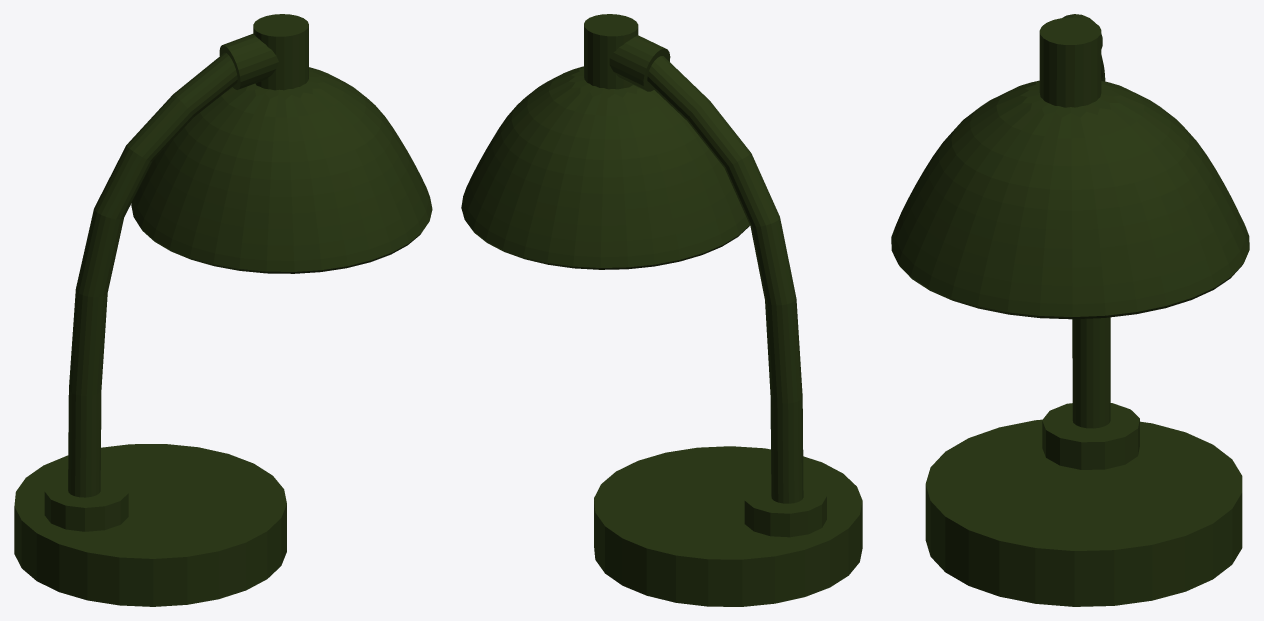
The model's file is greendesklamp_modelingfbx.fbx.
The picture shows the model from 3 angles, left to right: view 1: azimuth 30°, elevation 25°; view 2: azimuth 150°, elevation 25°; view 3: azimuth 270°, elevation 25°; orthographic projection. The views are drawn at different scales.
Visible parts, largest first — view 1: greendesklamp_modelingfbx; view 2: greendesklamp_modelingfbx; view 3: greendesklamp_modelingfbx.
Part boxes in pixels (x1,y1,x2,y2): greendesklamp_modelingfbx: (14,14,432,606); greendesklamp_modelingfbx: (461,14,862,606); greendesklamp_modelingfbx: (891,14,1249,606).
Bounding box in the file's own units: 896 × 1142 × 640.
